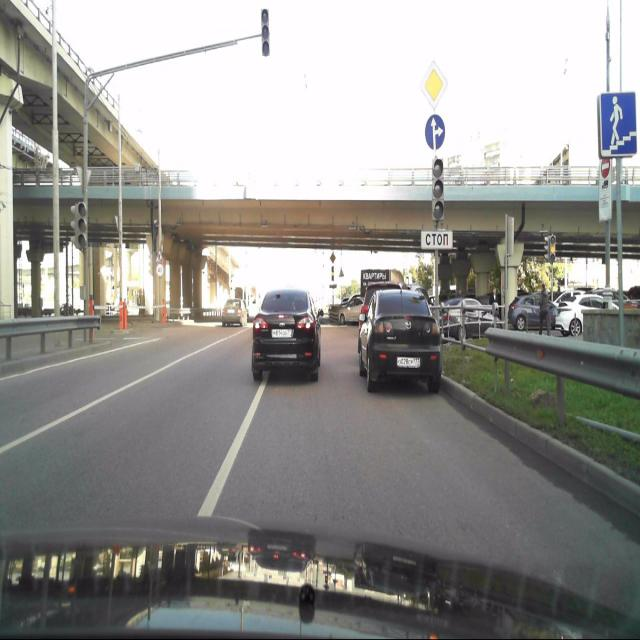road sign: (598, 88, 638, 157), (420, 63, 447, 108), (420, 229, 453, 252)
